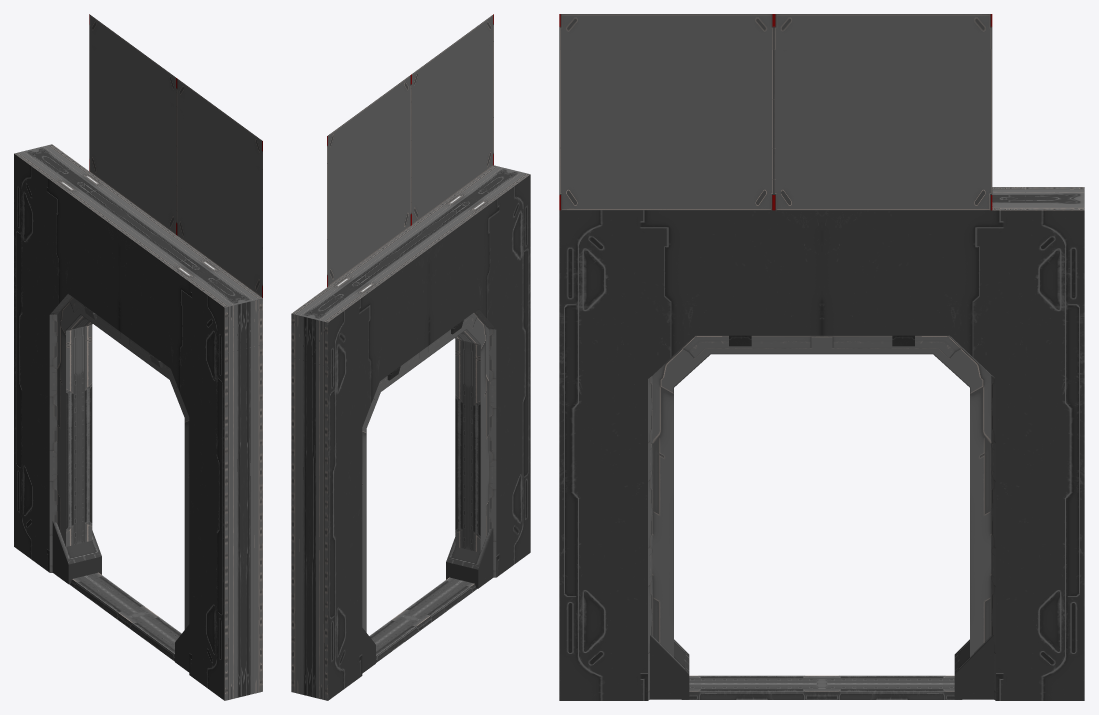
File: wall_05_door.fbx
3 renders of one model, left to right at view 1: azimuth 30°, elevation 25°; view 2: azimuth 150°, elevation 25°; view 3: azimuth 270°, elevation 25°, orthographic. The views are drawn at different scales.
Visible parts, largest first — view 1: wall_05_door; view 2: wall_05_door; view 3: wall_05_door.
Boxes of the visible parts, x1=… form: wall_05_door: x1=14, y1=14, x2=262, y2=700; wall_05_door: x1=291, y1=14, x2=530, y2=700; wall_05_door: x1=559, y1=14, x2=1084, y2=700.
Bounding box in the file's own units: 50.68 × 701 × 485.
Materials: 2 (2 with a texture image).
